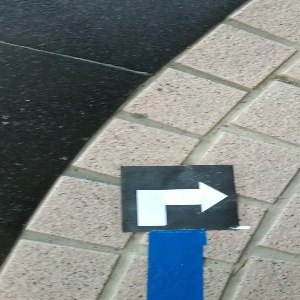right: (122, 165, 238, 229)
